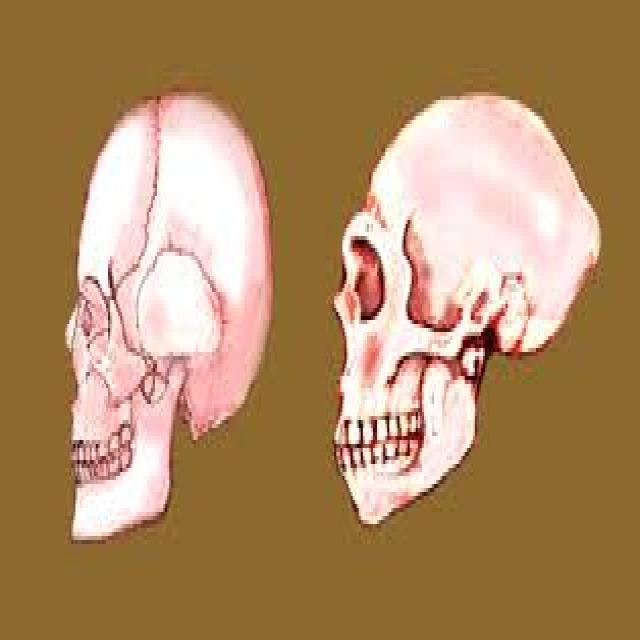skull: (59, 73, 288, 555)
